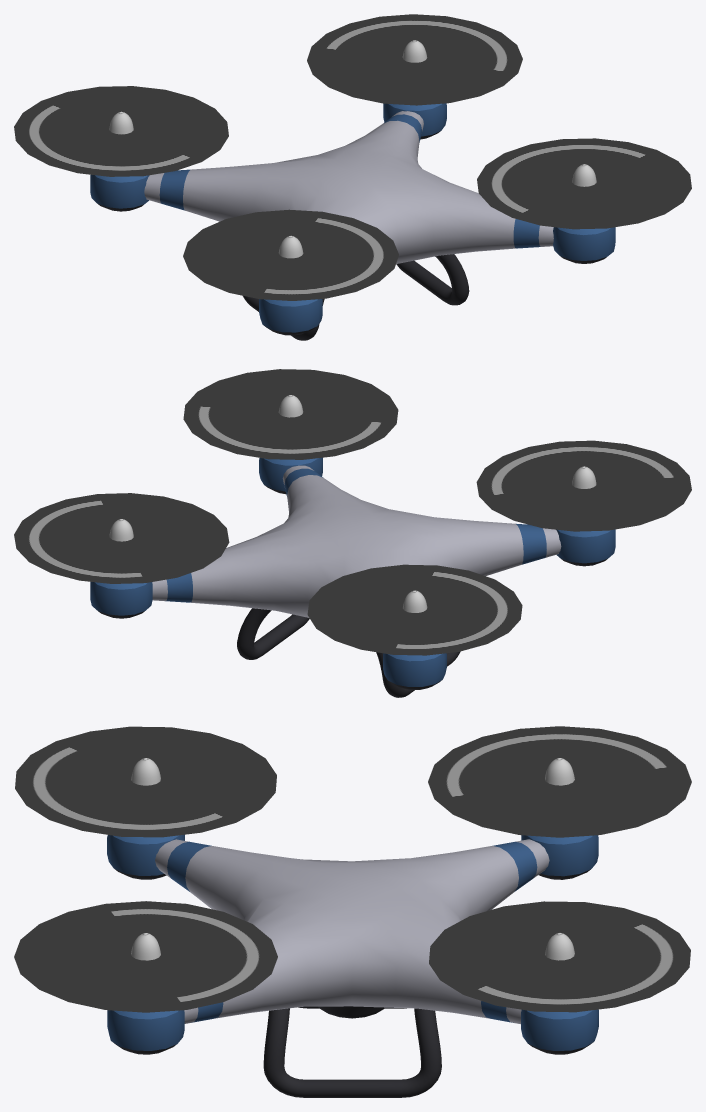
File: drone-02.glb
3 views of the same model, one above another, from view 1: azimuth 30°, elevation 25°; view 2: azimuth 150°, elevation 25°; view 3: azimuth 270°, elevation 25° (orthographic). The views are drawn at different scales.
Parts seen in each view (by area): view 1: dron_2.001, propeller_013, propeller_016, propeller_015, propeller_014; view 2: dron_2.001, propeller_015, propeller_016, propeller_014, propeller_013; view 3: dron_2.001, propeller_013, propeller_016, propeller_015, propeller_014.
Part boxes in pixels (x1,y1,x2,y2): dron_2.001: [90, 40, 615, 340]; propeller_013: [14, 86, 228, 176]; propeller_016: [477, 138, 691, 229]; propeller_015: [307, 14, 522, 105]; propeller_014: [183, 209, 398, 300]; dron_2.001: [90, 395, 615, 697]; propeller_015: [14, 493, 229, 583]; propeller_016: [183, 369, 398, 459]; propeller_014: [476, 440, 691, 531]; propeller_013: [307, 564, 522, 655]; dron_2.001: [107, 758, 598, 1097]; propeller_013: [428, 726, 691, 837]; propeller_016: [14, 901, 277, 1012]; propeller_015: [429, 901, 690, 1012]; propeller_014: [15, 726, 276, 837].
Bounding box in the file's own units: 3.48 × 1.17 × 3.48.
Materials: 2 (1 with a texture image).
